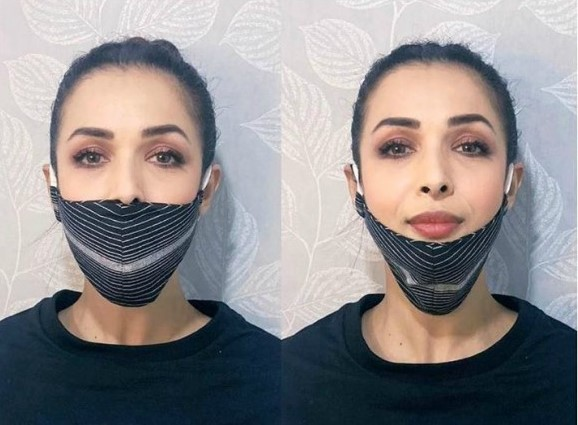mask_weared_incorrect: (347, 62, 524, 315)
with_mask: (41, 64, 223, 307)
